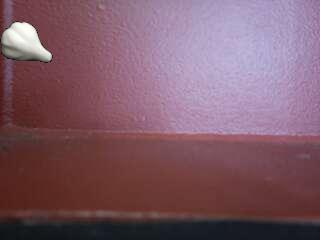Garlic: (0, 19, 56, 66)
